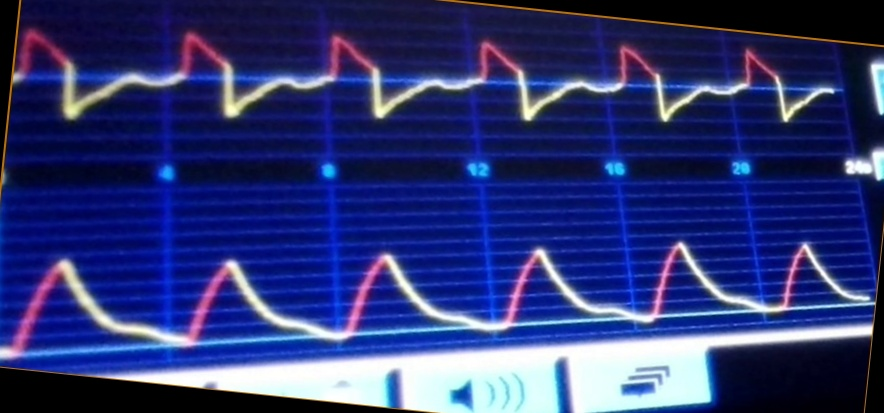Ineffective_effort Flow: (16, 18, 833, 136)
Ineffective_effort Volume: (1, 233, 867, 350)
